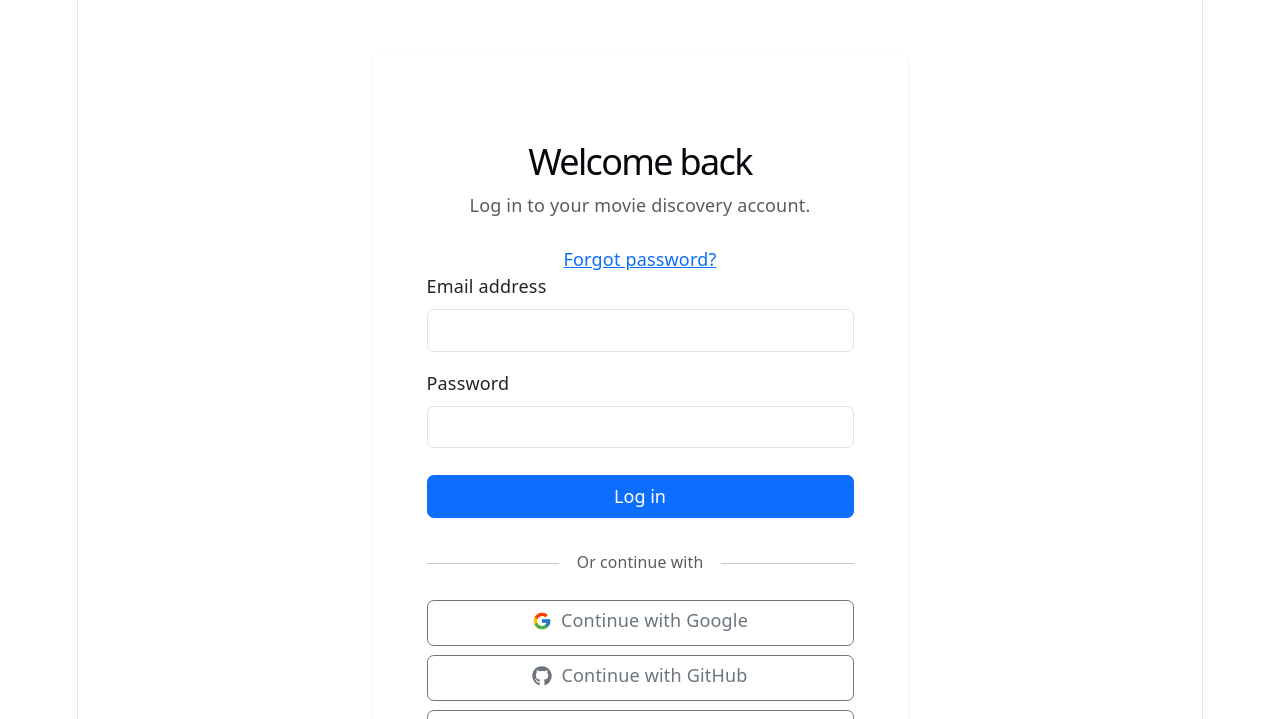
Test: Login flow (AB#29) › handles HTTP 419 with a safe error message
Step 1. Type "test@example.com" into the field labelled "Email address" → (640, 330), box [426,309,854,352]
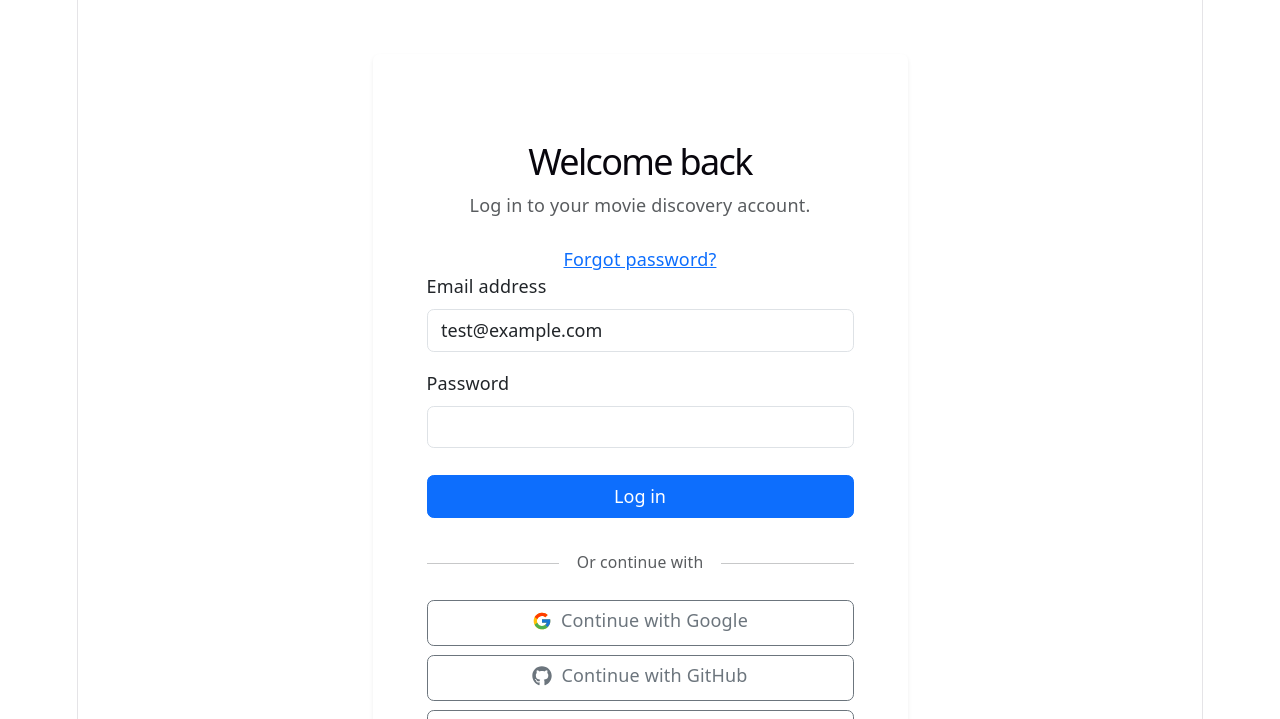
Step 2. Type "TestPassword123!" into the password field labelled "Password" → (640, 427), box [426,406,854,448]
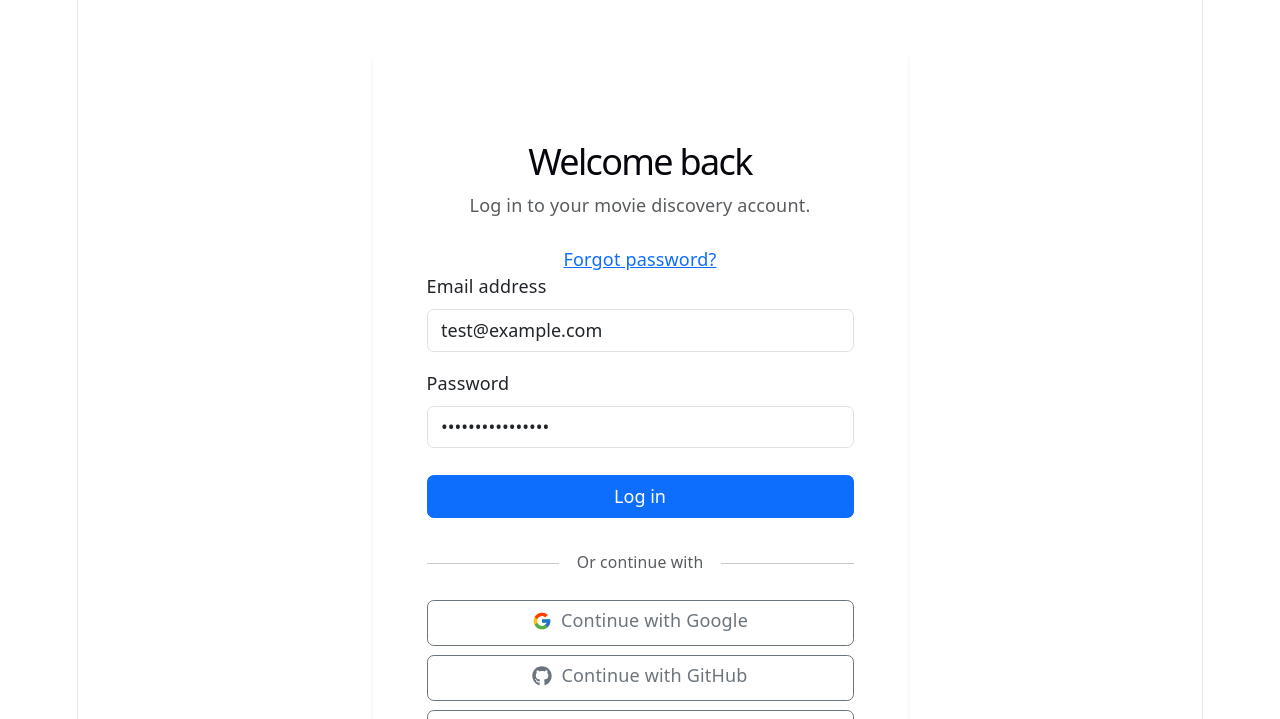
Step 3. Click the button "Log in" → (640, 496), box [426,475,854,518]
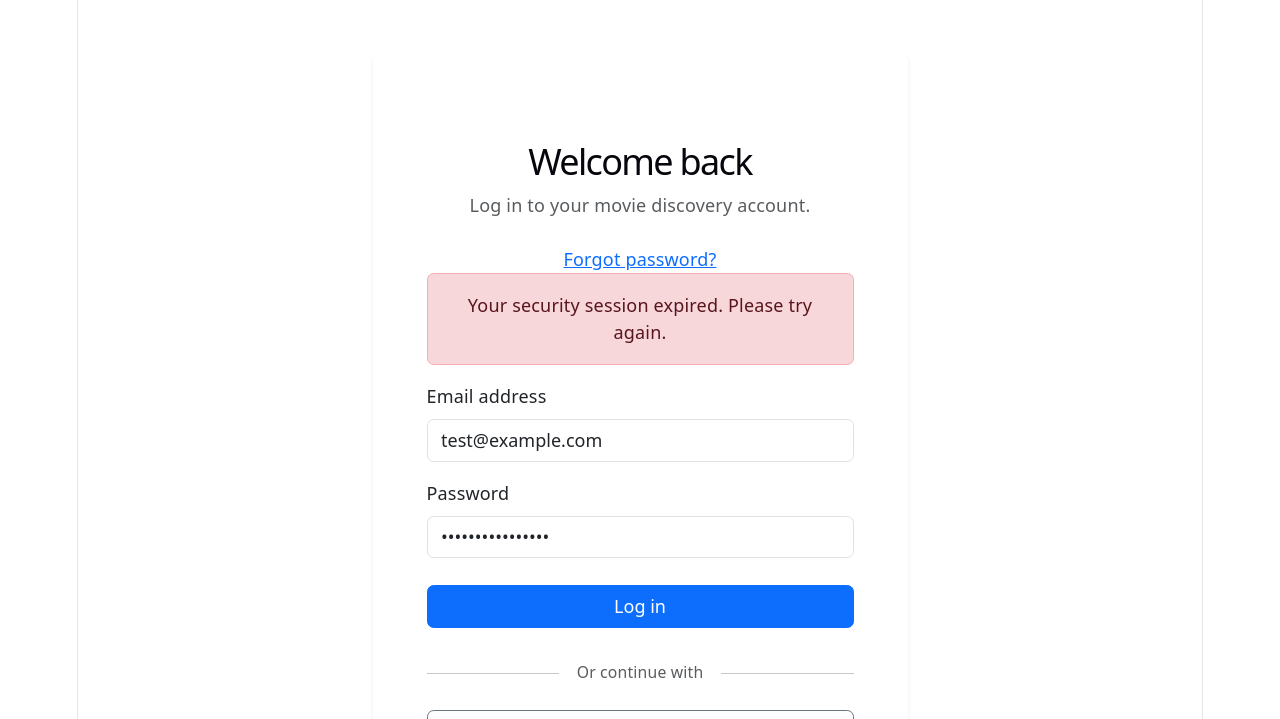
Expected: the message reads "Your security session expired. Please try again.", [468,293,812,344]
